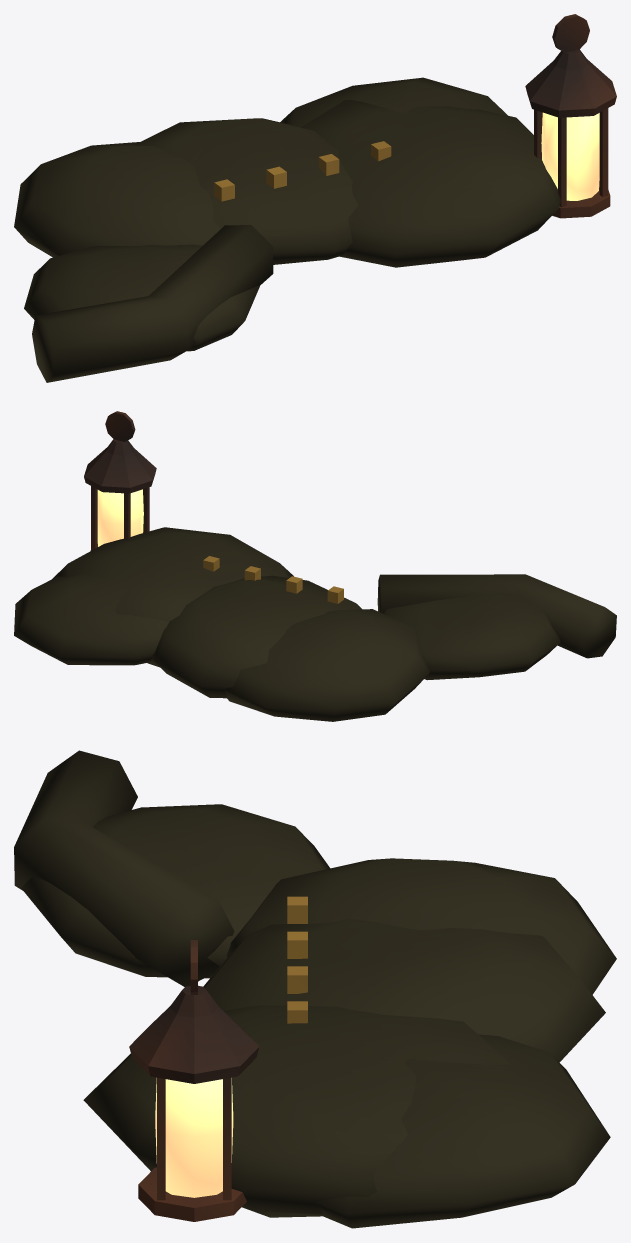
The model's file is clue-elias-body.glb.
3 views of the same model, one above another, from view 1: azimuth 30°, elevation 25°; view 2: azimuth 150°, elevation 25°; view 3: azimuth 270°, elevation 25° (orthographic). The views are drawn at different scales.
Visible parts, largest first — view 1: clue-elias-body-cloth, clue-elias-body-iron, clue-elias-body-glow, clue-elias-body-brass; view 2: clue-elias-body-cloth, clue-elias-body-iron, clue-elias-body-glow, clue-elias-body-brass; view 3: clue-elias-body-cloth, clue-elias-body-iron, clue-elias-body-glow, clue-elias-body-brass.
Part boxes in pixels (<box>): clue-elias-body-cloth: <box>14,77,560,382</box>; clue-elias-body-iron: <box>525,14,616,218</box>; clue-elias-body-glow: <box>541,112,599,200</box>; clue-elias-body-brass: <box>214,141,391,201</box>; clue-elias-body-cloth: <box>14,527,616,721</box>; clue-elias-body-iron: <box>84,411,156,550</box>; clue-elias-body-glow: <box>97,489,143,546</box>; clue-elias-body-brass: <box>203,556,343,603</box>; clue-elias-body-cloth: <box>14,750,616,1228</box>; clue-elias-body-iron: <box>129,940,259,1221</box>; clue-elias-body-glow: <box>155,1078,233,1197</box>; clue-elias-body-brass: <box>287,896,307,1023</box>.
Size of the model in its own units: 1.41 by 0.4906 by 0.8742.
